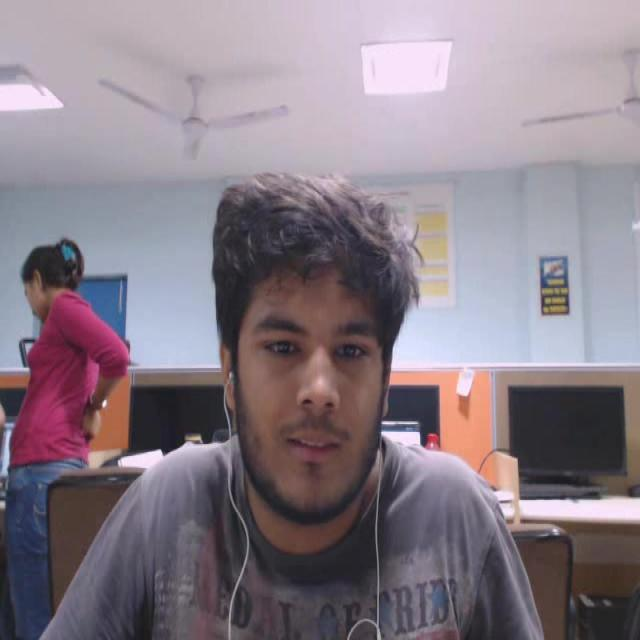Engaged: (198, 157, 447, 559)
